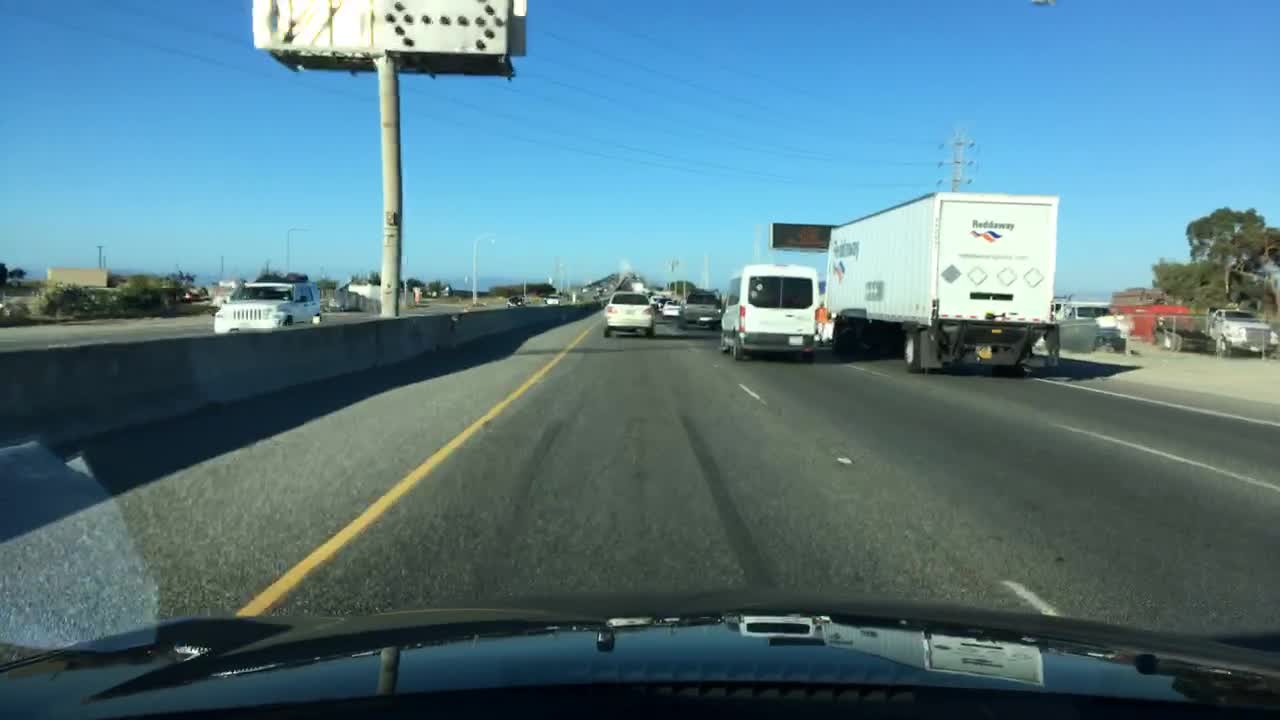car: (717, 264, 823, 365), (211, 281, 322, 331), (605, 291, 652, 341), (678, 291, 719, 334), (649, 290, 668, 308), (660, 300, 676, 321), (505, 295, 522, 309), (543, 295, 557, 304)
truck: (819, 194, 1067, 380), (1202, 306, 1272, 357)
